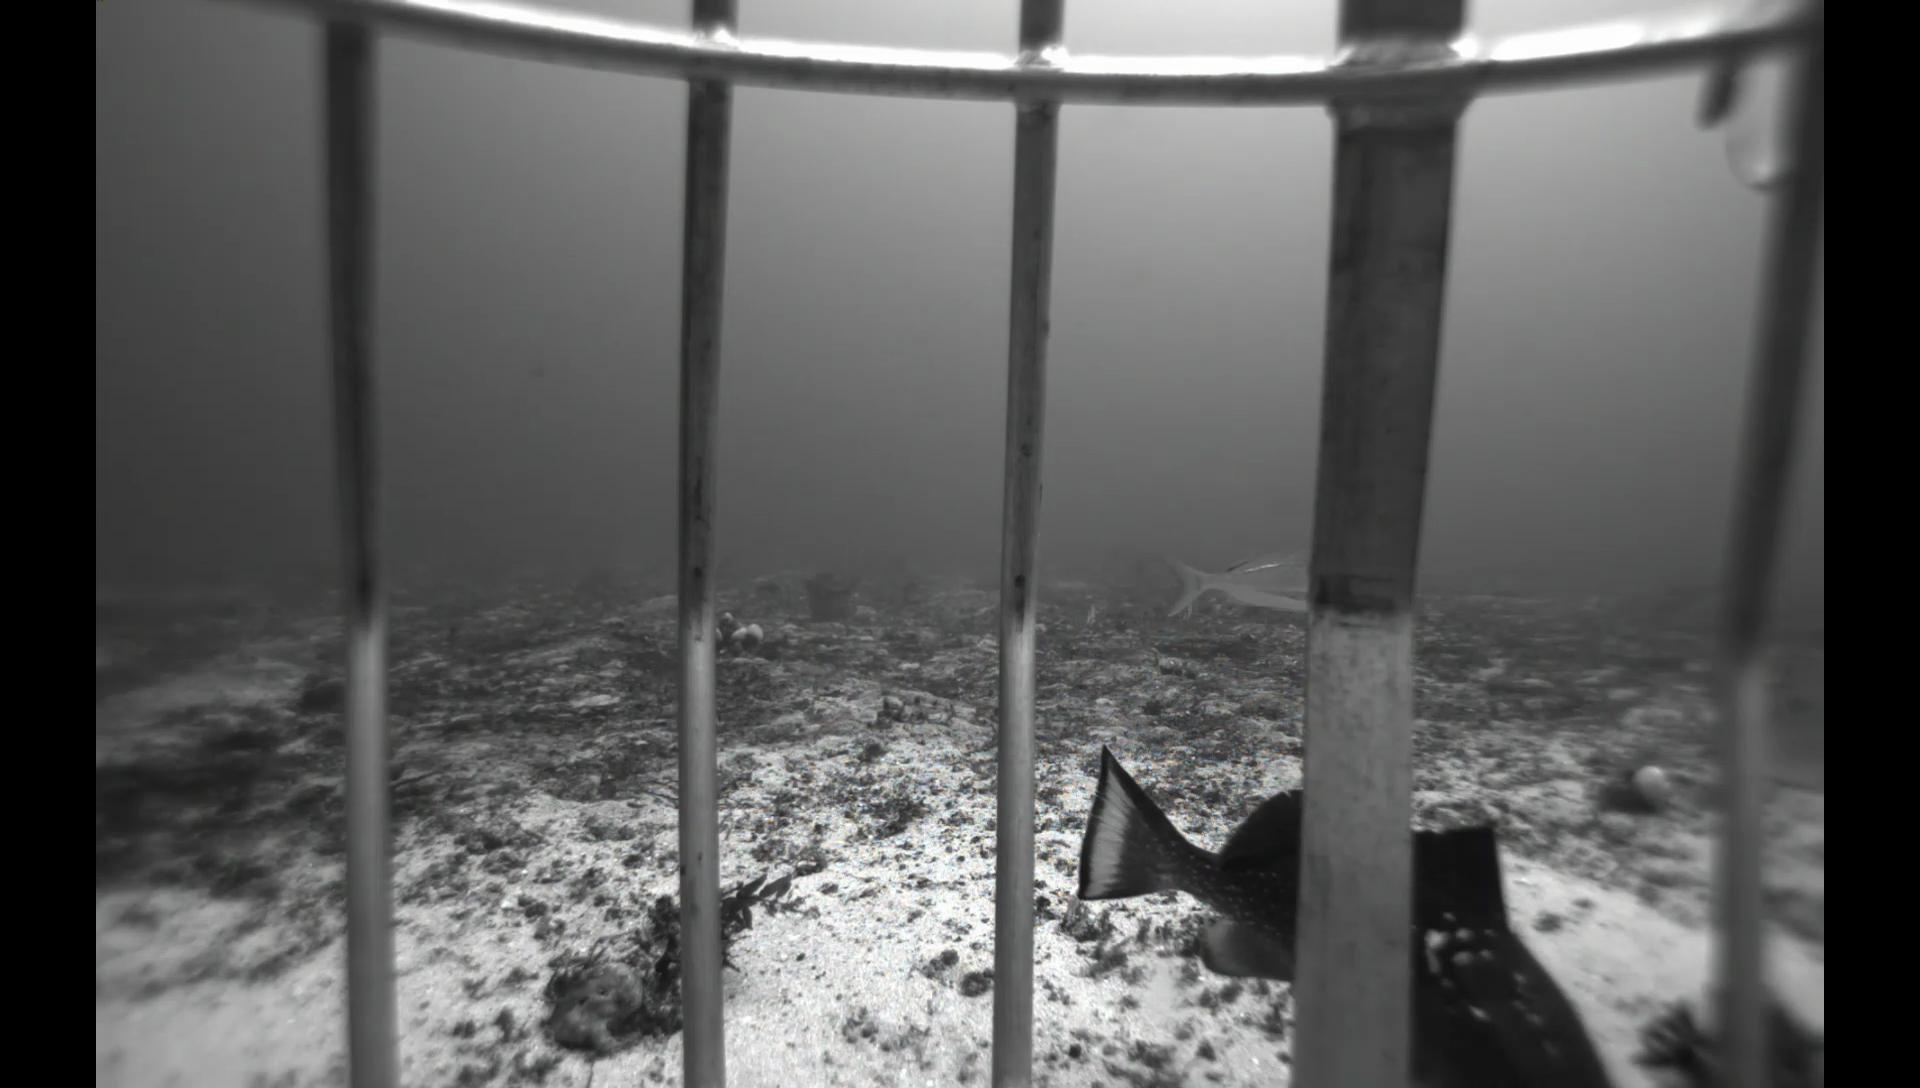CALAMUSNODOSUS-170210608: (1762, 642, 1825, 806)
CHAETODONOCELLATUS-170260307: (1076, 601, 1106, 629), (1179, 600, 1196, 625)
EPINEPHELUSMORIO-170021211: (1069, 739, 1619, 1088)
HALICHOERESBIVITTATUS-170281202: (272, 648, 306, 670)
PAGRUSPAGRUS-170212302: (1154, 547, 1311, 617)
PRISTIGENYSALTA-170050401: (291, 675, 344, 713)
